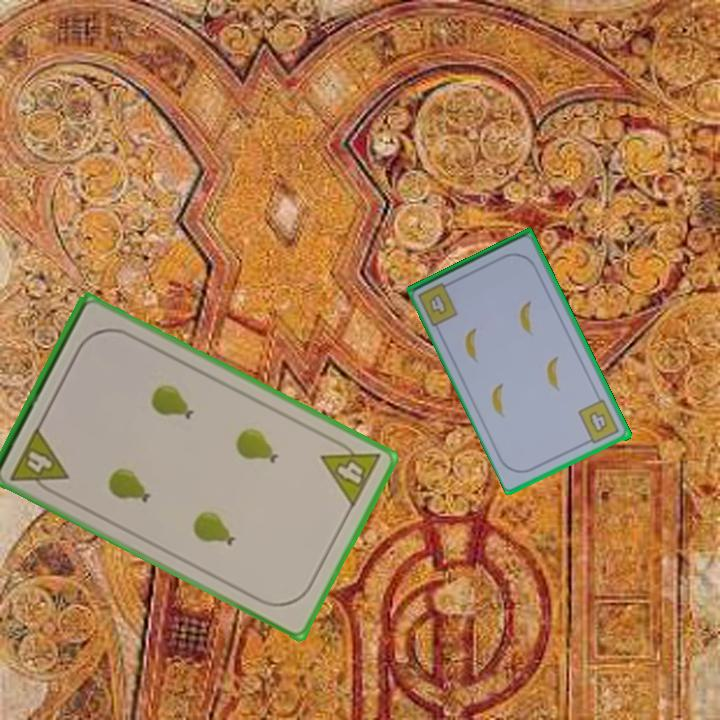4b: (575, 396, 623, 447), (426, 292, 450, 318)
4p: (317, 433, 384, 511), (7, 423, 72, 499)
